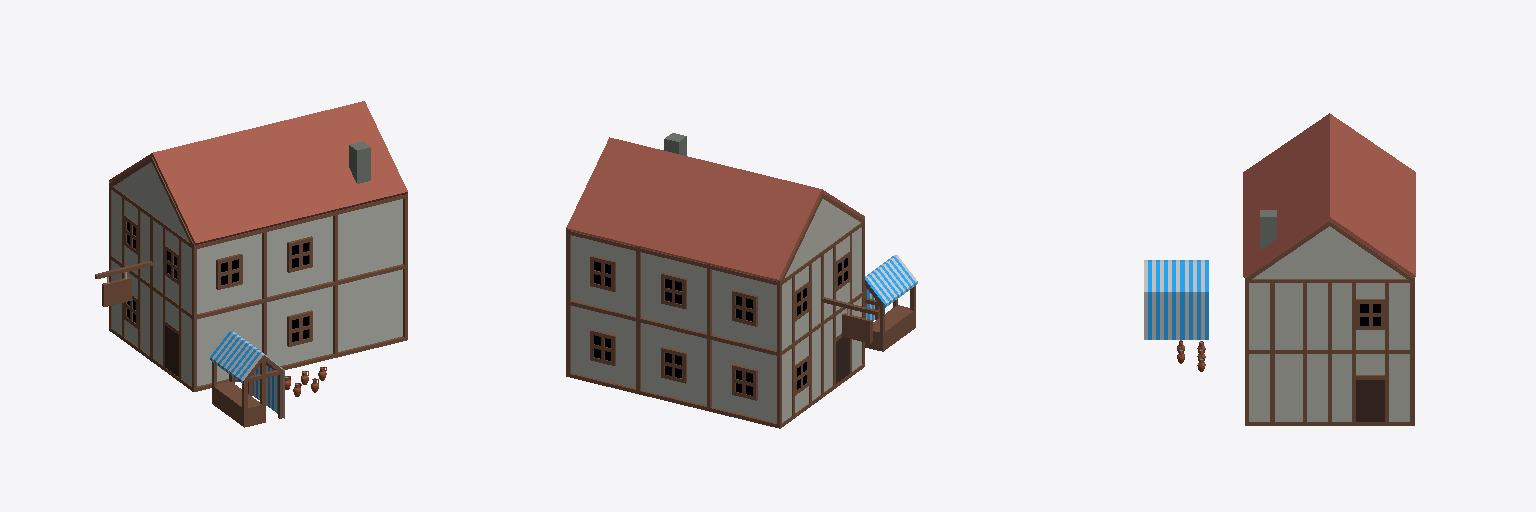
Rendered from timberframedpotter_white_blue.obj.
The picture shows the model from 3 angles: view 1: azimuth 30°, elevation 25°; view 2: azimuth 150°, elevation 25°; view 3: azimuth 270°, elevation 25°; orthographic projection.
Parts seen in each view (by area): view 1: Cube.005, Cube.007_Cube.011, Cube.011_Cube.015, Cube.018_Cube.016, Cube.056_Cube.081, Cube.001_Cube.058, Cube.013_Cube.080, Cube.006_Cube.010, Cube.055_Cube.059, Cube.026_Cube.019, Cube.073_Cube.078, Cube.012_Cube.017 (+5 smaller); view 2: Cube.005, Cube.007_Cube.011, Cube.022_Cube.025, Cube.023_Cube.026, Cube.021_Cube.024, Cube.015_Cube.020, Cube.019_Cube.022, Cube.017_Cube.021, Cube.014_Cube.018, Cube.008, Cube.020_Cube.023, Cube.073_Cube.078 (+6 smaller); view 3: Cube.005, Cube.007_Cube.011, Cube.147_Cube.153, Cube.003, Cube.033, Cube.027, Cube.047_Cube.049, Cube.031, Cube.016_Cube.013, Cube.006_Cube.010, Cube.032, Cube.012_Cube.017 (+4 smaller).
Boxes of the visible parts, x1,y1,x2,y2 form: Cube.005: [112, 162, 402, 385]; Cube.007_Cube.011: [109, 101, 407, 244]; Cube.011_Cube.015: [195, 264, 404, 319]; Cube.018_Cube.016: [195, 195, 406, 249]; Cube.056_Cube.081: [216, 254, 242, 289]; Cube.001_Cube.058: [287, 310, 312, 346]; Cube.013_Cube.080: [287, 236, 312, 272]; Cube.006_Cube.010: [349, 141, 370, 183]; Cube.055_Cube.059: [195, 336, 406, 391]; Cube.026_Cube.019: [192, 243, 196, 391]; Cube.073_Cube.078: [102, 277, 131, 306]; Cube.012_Cube.017: [403, 193, 407, 339]; Cube.005: [571, 199, 861, 422]; Cube.007_Cube.011: [566, 137, 864, 280]; Cube.022_Cube.025: [567, 301, 778, 355]; Cube.023_Cube.026: [567, 373, 776, 427]; Cube.021_Cube.024: [570, 231, 776, 284]; Cube.015_Cube.020: [732, 290, 757, 326]; Cube.019_Cube.022: [661, 347, 686, 383]; Cube.017_Cube.021: [590, 330, 615, 365]; Cube.014_Cube.018: [661, 273, 686, 308]; Cube.008: [590, 255, 615, 291]; Cube.020_Cube.023: [732, 364, 757, 400]; Cube.073_Cube.078: [842, 313, 872, 343]; Cube.005: [1249, 226, 1409, 421]; Cube.007_Cube.011: [1243, 113, 1415, 277]; Cube.147_Cube.153: [1144, 292, 1208, 339]; Cube.003: [1356, 380, 1384, 421]; Cube.033: [1356, 299, 1384, 329]; Cube.027: [1410, 277, 1414, 425]; Cube.047_Cube.049: [1270, 279, 1274, 423]; Cube.031: [1248, 422, 1410, 425]; Cube.016_Cube.013: [1248, 350, 1410, 353]; Cube.006_Cube.010: [1260, 210, 1276, 249]; Cube.032: [1248, 279, 1410, 282]; Cube.012_Cube.017: [1245, 277, 1248, 425].
Size of the model in its own units: 15.3 by 11.25 by 13.34.